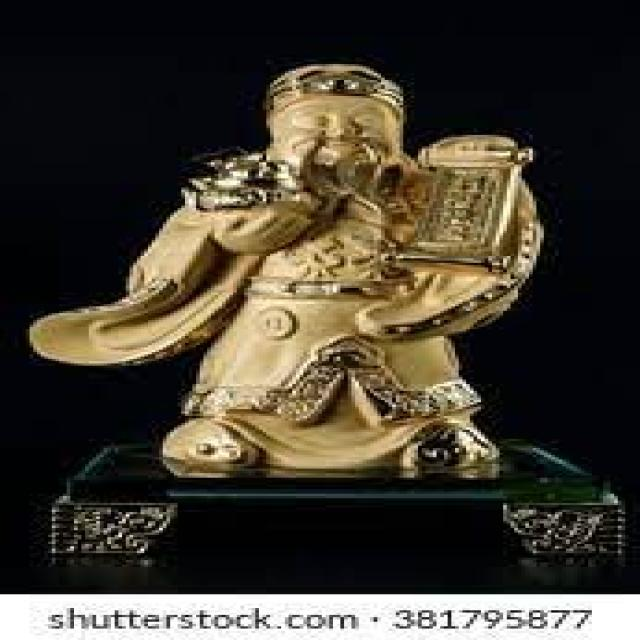Cai shen: (158, 63, 528, 344)
